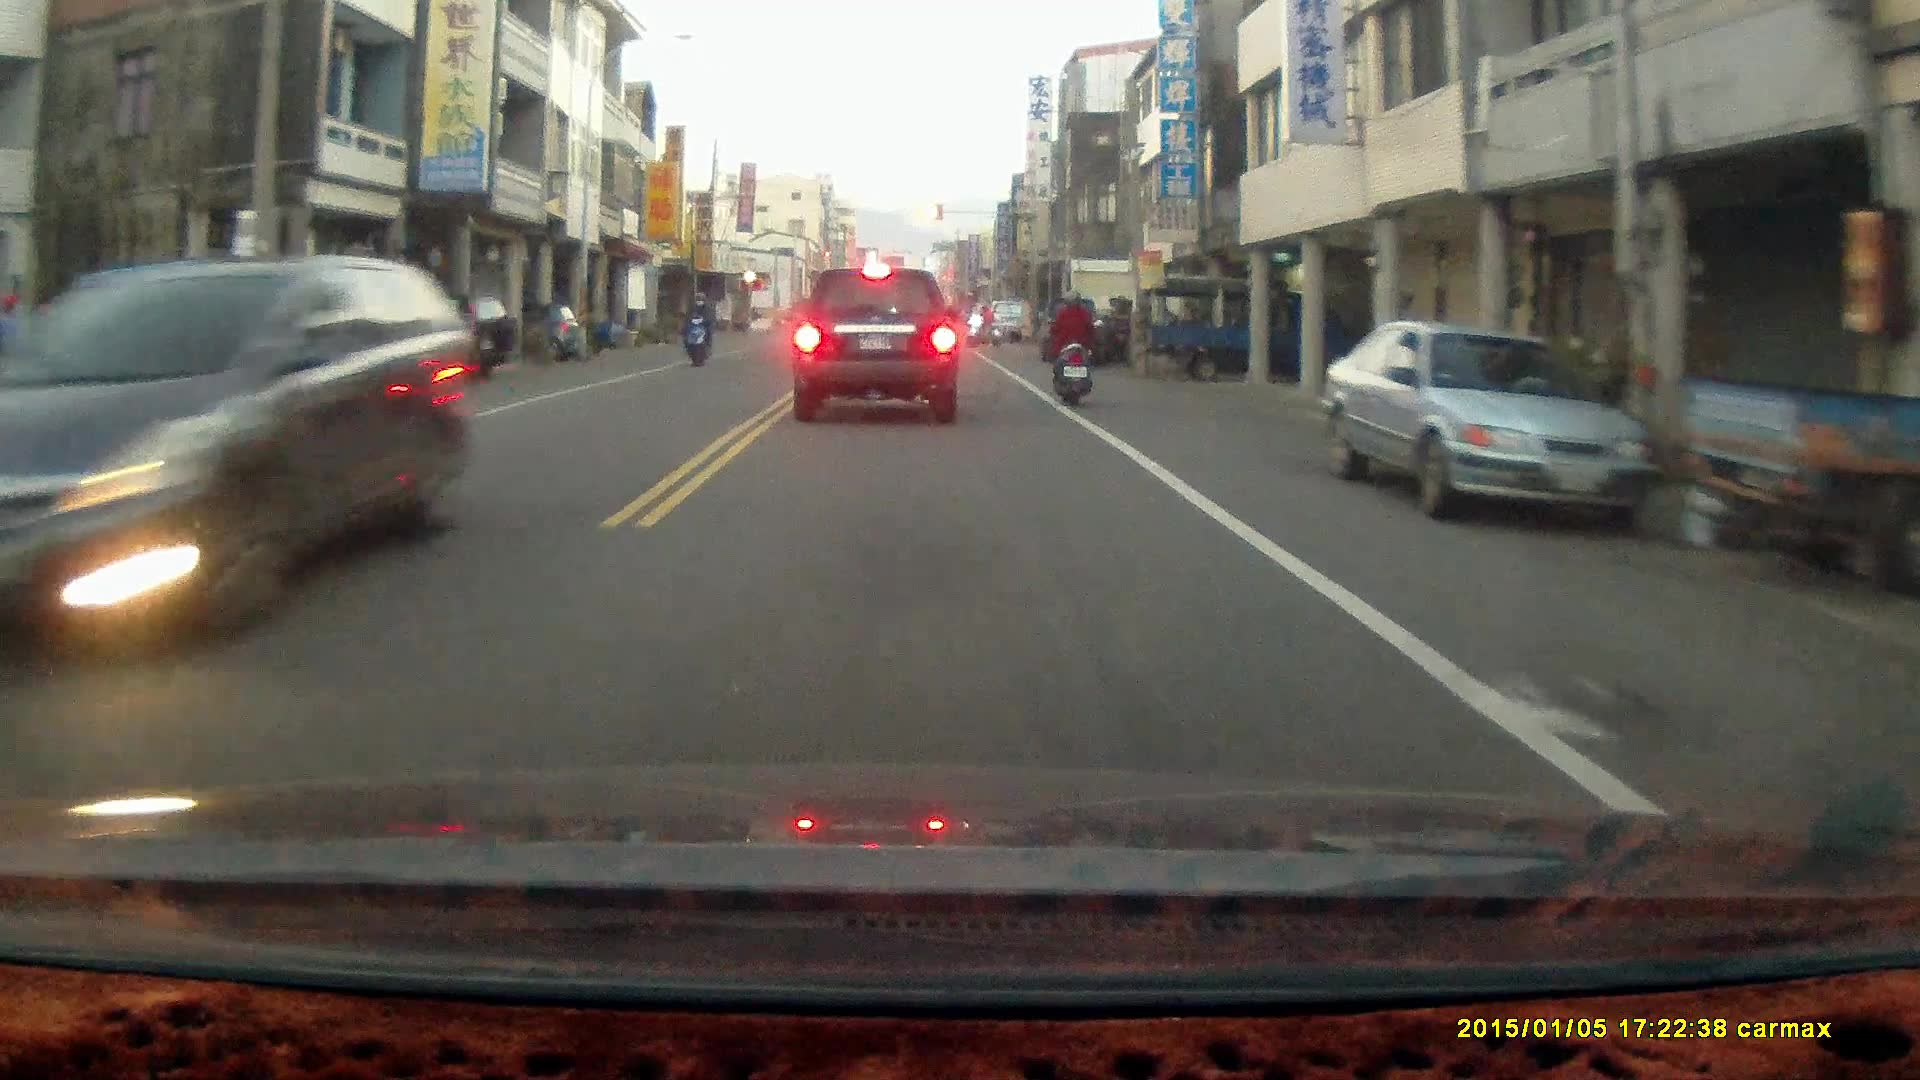rider: (1047, 288, 1096, 408), (680, 289, 716, 365), (964, 301, 1002, 348)
vehicle: (1, 250, 473, 653), (1674, 275, 1920, 601), (1322, 319, 1661, 537), (793, 261, 963, 427), (1143, 266, 1369, 375)
